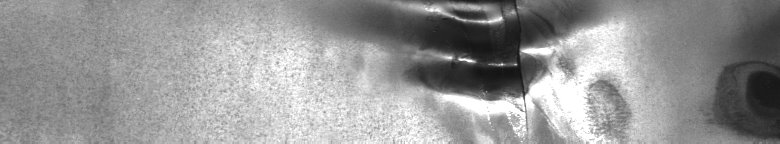ke: (413, 4, 606, 131)
